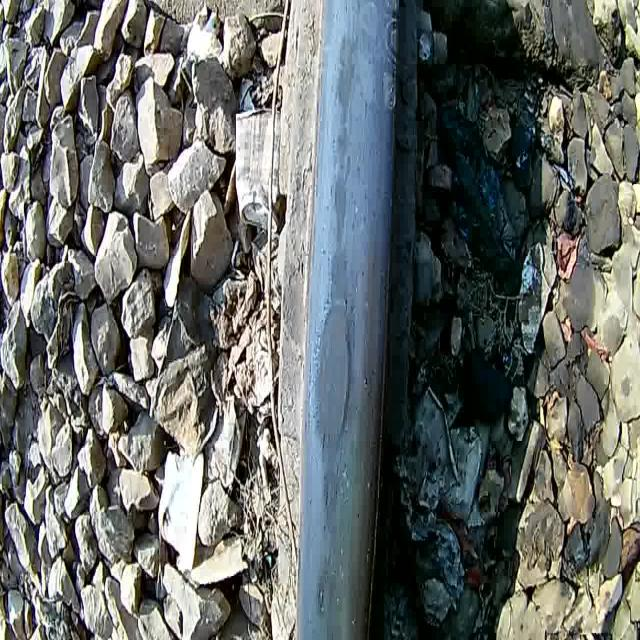Squats: (276, 1, 422, 640)
